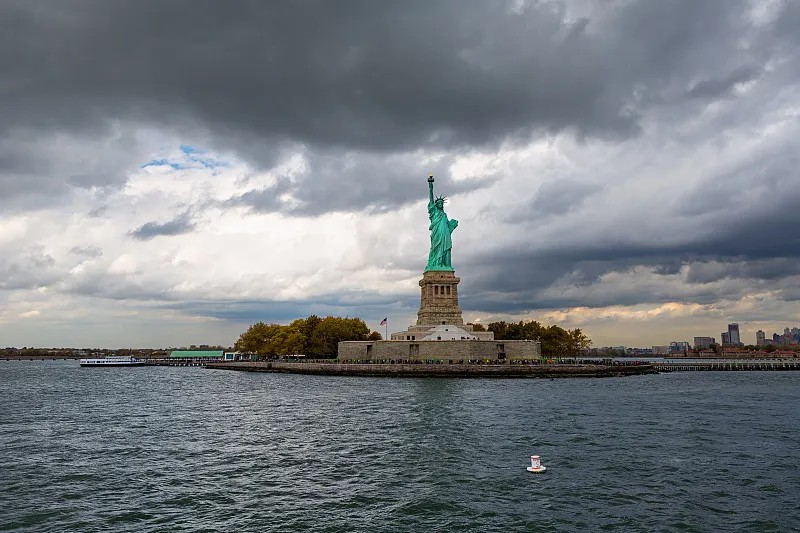SL: (417, 173, 463, 324)
